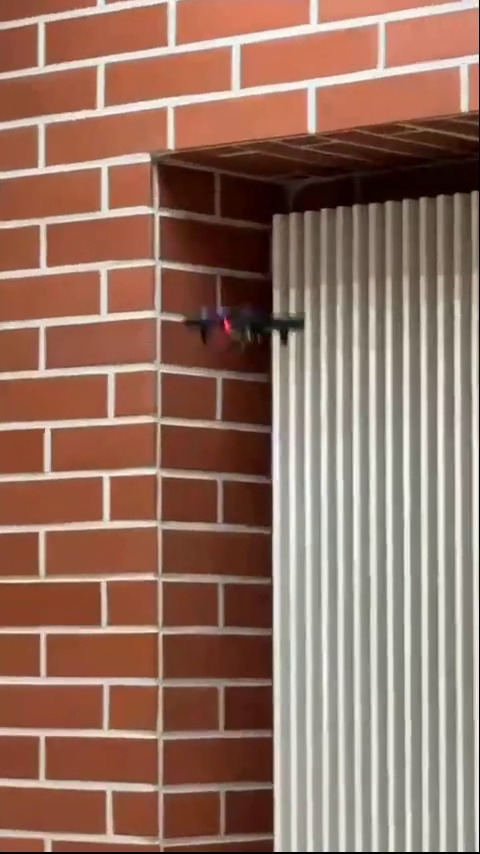drone: (180, 302, 309, 351)
